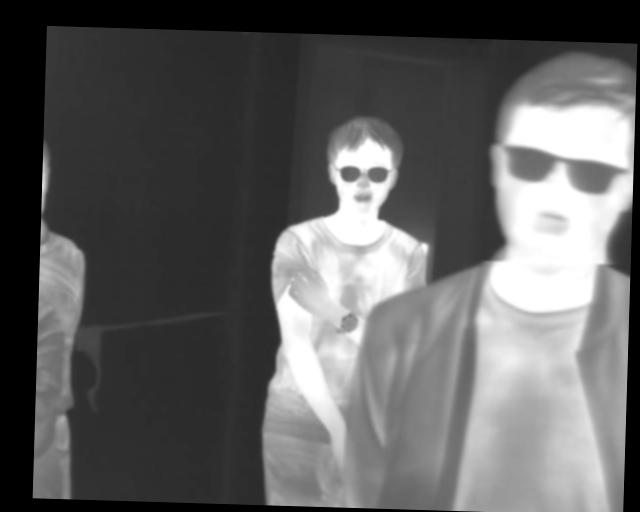face: (484, 47, 637, 274), (324, 113, 403, 219)
